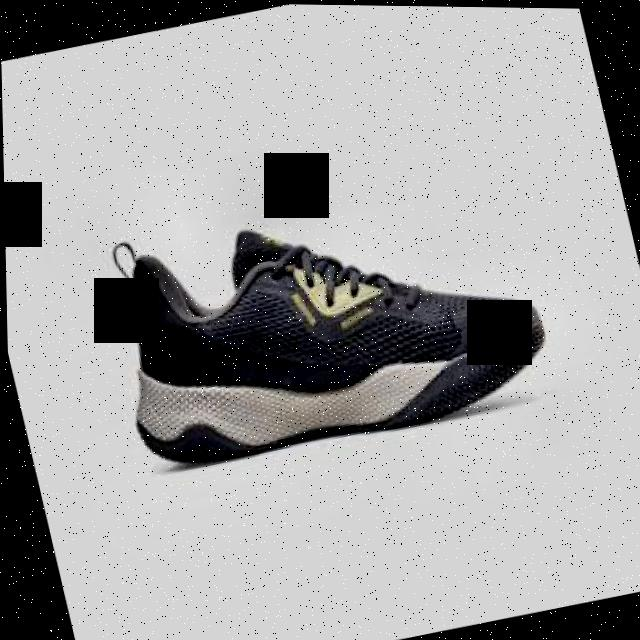shoe: (91, 170, 558, 480)
